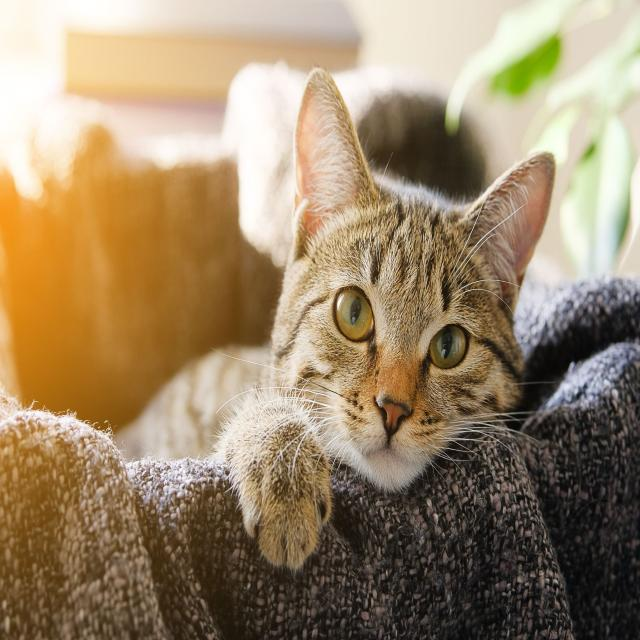cat: (281, 107, 526, 476)
